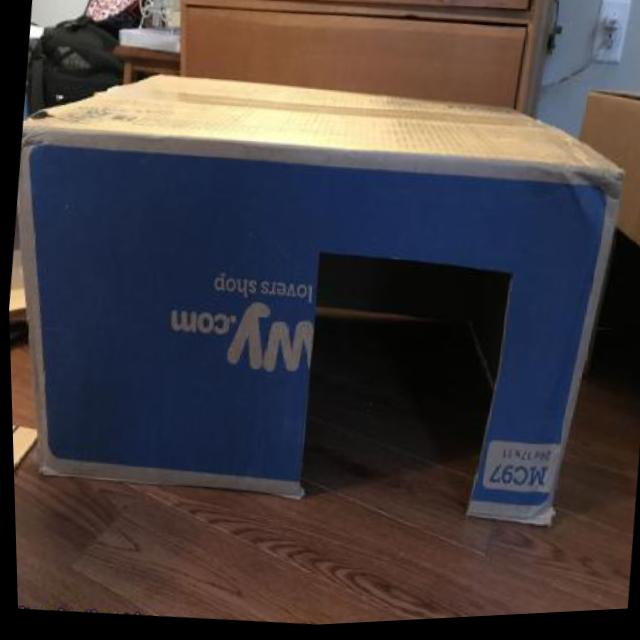box: (1, 32, 640, 598)
